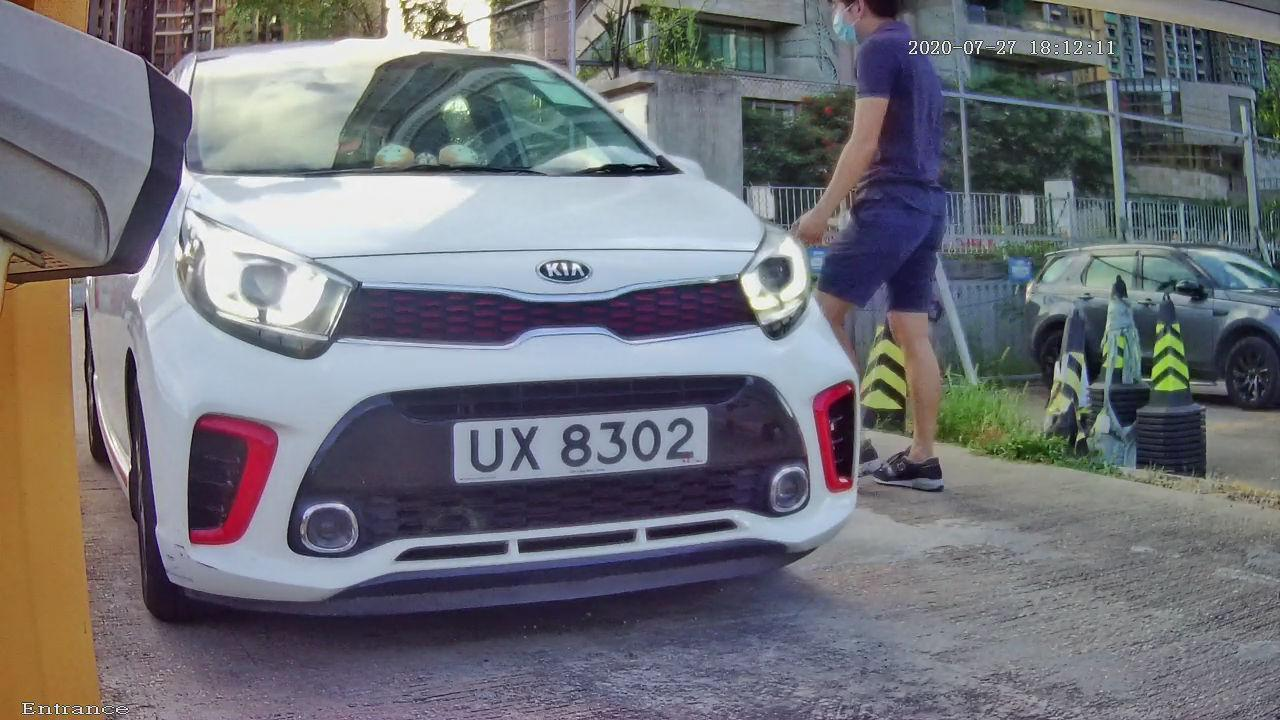privatecar: (63, 26, 961, 637)
